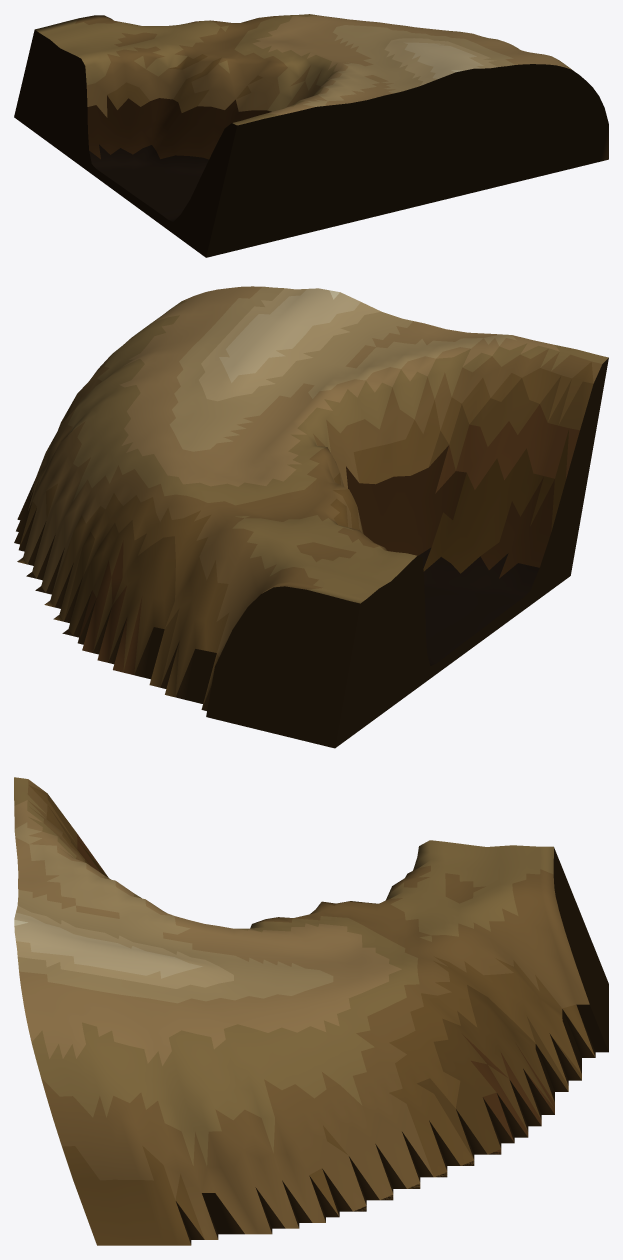
File: tan_crater_tr.glb
3 views of the same model, one above another, from view 1: azimuth 30°, elevation 25°; view 2: azimuth 150°, elevation 25°; view 3: azimuth 270°, elevation 25° (orthographic). The views are drawn at different scales.
Visible parts, largest first — view 1: tan_crater_tr; view 2: tan_crater_tr; view 3: tan_crater_tr.
Part boxes in pixels (left/top/right/bottom): tan_crater_tr: left=14, top=14, right=608, bottom=257; tan_crater_tr: left=14, top=286, right=608, bottom=748; tan_crater_tr: left=14, top=777, right=608, bottom=1245.
Size of the model in its own units: 23 by 8.49 by 22.09.
